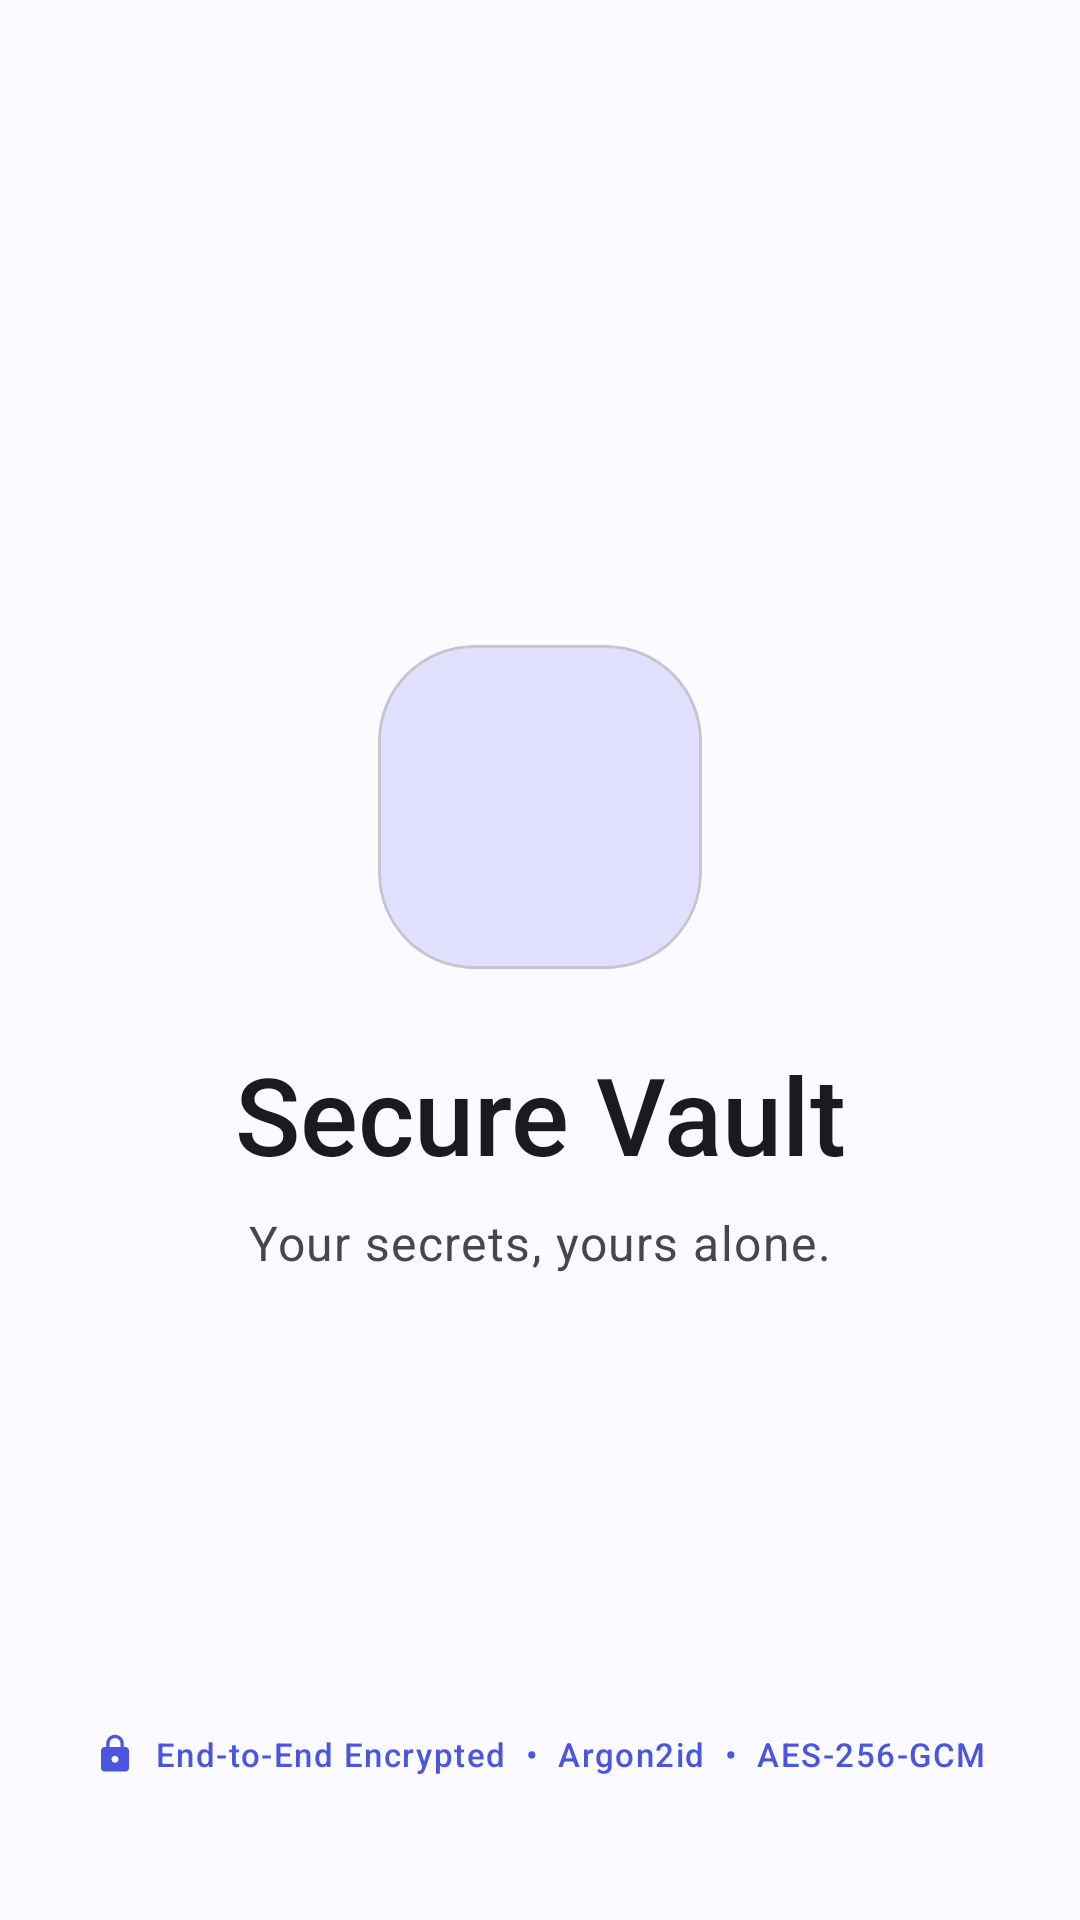

Where icons sit on this 1080*1920 app screen, as (x1, y1, x2, y2):
lock: (101, 1734, 129, 1772)
